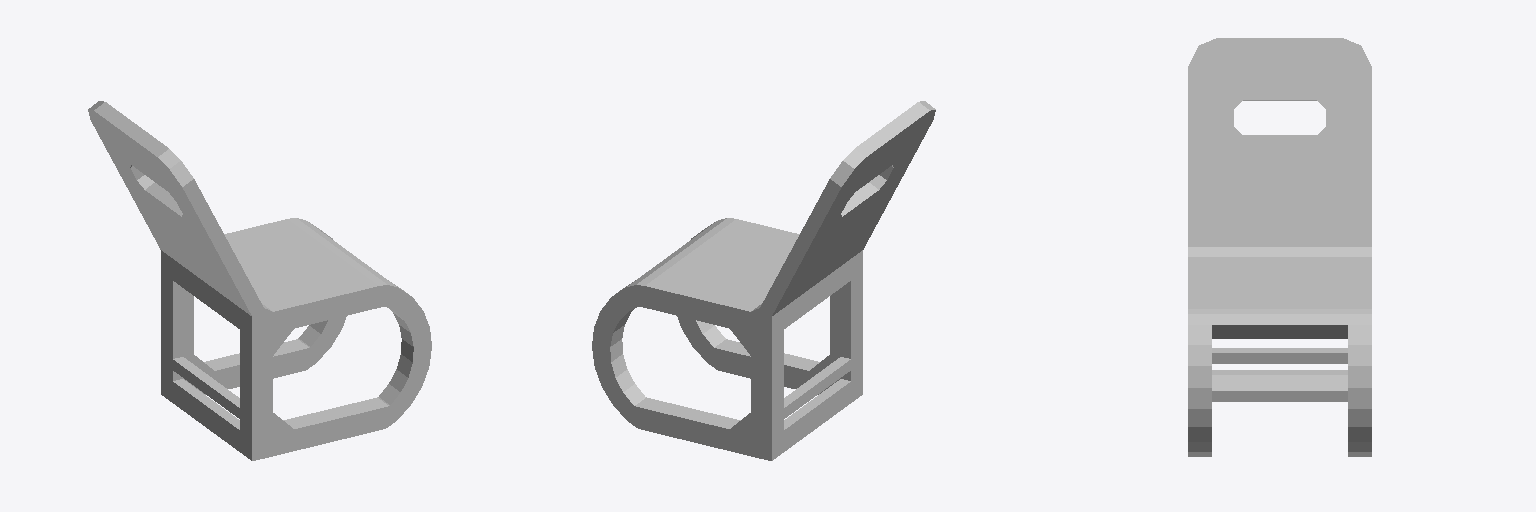
Rendered from chair_max.obj.
3 renders of one model, left to right at view 1: azimuth 30°, elevation 25°; view 2: azimuth 150°, elevation 25°; view 3: azimuth 270°, elevation 25°, orthographic.
Visible parts, largest first — view 1: Mesh1 Model; view 2: Mesh1 Model; view 3: Mesh1 Model.
Part boxes in pixels (bbox=[...]): Mesh1 Model: bbox=[88, 101, 431, 460]; Mesh1 Model: bbox=[592, 101, 935, 460]; Mesh1 Model: bbox=[1188, 38, 1371, 456].
Bounding box in the file's own units: 0.9997 × 1.17 × 0.61.